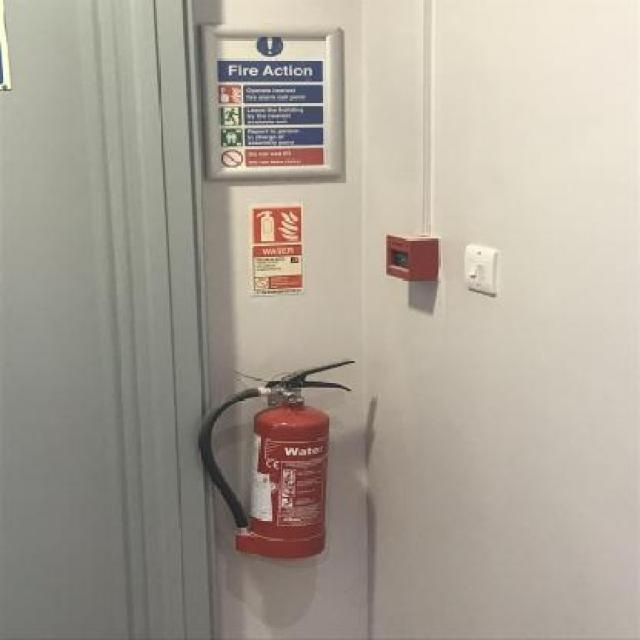fire extinguisher: (199, 358, 356, 560)
